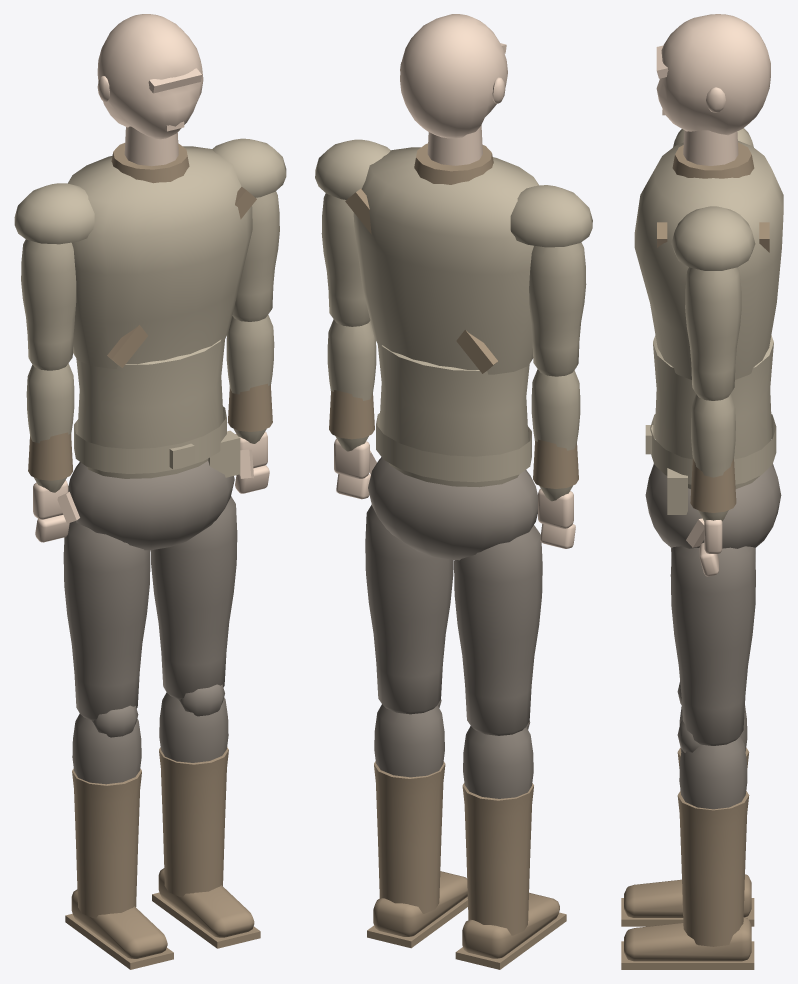
The model's file is humanoid.glb.
3 renders of one model, left to right at view 1: azimuth 30°, elevation 25°; view 2: azimuth 150°, elevation 25°; view 3: azimuth 270°, elevation 25°, orthographic. The views are drawn at different scales.
Visible parts, largest first — view 1: torso, thigh_r, shin_l, shin_r, belly, thigh_l, head, pelvis, upperarm_r, forearm_r, forearm_l, belt (+8 smaller); view 2: torso, thigh_r, belly, thigh_l, shin_l, shin_r, pelvis, head, upperarm_r, forearm_r, forearm_l, upperarm_l (+8 smaller); view 3: torso, thigh_l, shin_l, head, belly, upperarm_l, pelvis, forearm_l, foot_l, shoulderpad_l, belt, foot_r (+3 smaller).
Boxes of the visible parts, x1=… form: torso: x1=67, y1=143, x2=256, y2=368; thigh_r: x1=63, y1=521, x2=150, y2=720; shin_l: x1=159, y1=684, x2=228, y2=897; shin_r: x1=72, y1=705, x2=141, y2=918; belly: x1=76, y1=339, x2=224, y2=478; thigh_l: x1=150, y1=496, x2=237, y2=699; head: x1=97, y1=14, x2=203, y2=139; pelvis: x1=68, y1=461, x2=234, y2=550; upperarm_r: x1=21, y1=239, x2=76, y2=370; forearm_r: x1=26, y1=363, x2=74, y2=492; forearm_l: x1=226, y1=315, x2=274, y2=443; belt: x1=74, y1=406, x2=240, y2=477; torso: x1=345, y1=143, x2=538, y2=374; thigh_r: x1=454, y1=525, x2=542, y2=735; belly: x1=377, y1=344, x2=529, y2=487; thigh_l: x1=365, y1=504, x2=453, y2=714; shin_l: x1=374, y1=699, x2=445, y2=913; shin_r: x1=462, y1=721, x2=533, y2=935; pelvis: x1=368, y1=457, x2=537, y2=560; head: x1=400, y1=14, x2=507, y2=138; upperarm_r: x1=529, y1=242, x2=586, y2=376; forearm_r: x1=531, y1=369, x2=580, y2=501; forearm_l: x1=327, y1=319, x2=376, y2=451; upperarm_l: x1=321, y1=193, x2=370, y2=326; torso: x1=634, y1=141, x2=783, y2=379; thigh_l: x1=670, y1=546, x2=755, y2=745; shin_l: x1=677, y1=720, x2=749, y2=946; head: x1=656, y1=14, x2=770, y2=135; belly: x1=653, y1=335, x2=773, y2=488; upperarm_l: x1=685, y1=267, x2=741, y2=400; pelvis: x1=645, y1=464, x2=781, y2=548; forearm_l: x1=690, y1=394, x2=736, y2=521; foot_l: x1=621, y1=917, x2=754, y2=969; shoulderpad_l: x1=671, y1=206, x2=755, y2=270; belt: x1=645, y1=414, x2=776, y2=514; foot_r: x1=621, y1=874, x2=754, y2=926.
Size of the model in its own units: 0.6039 by 1.98 by 0.3173.
